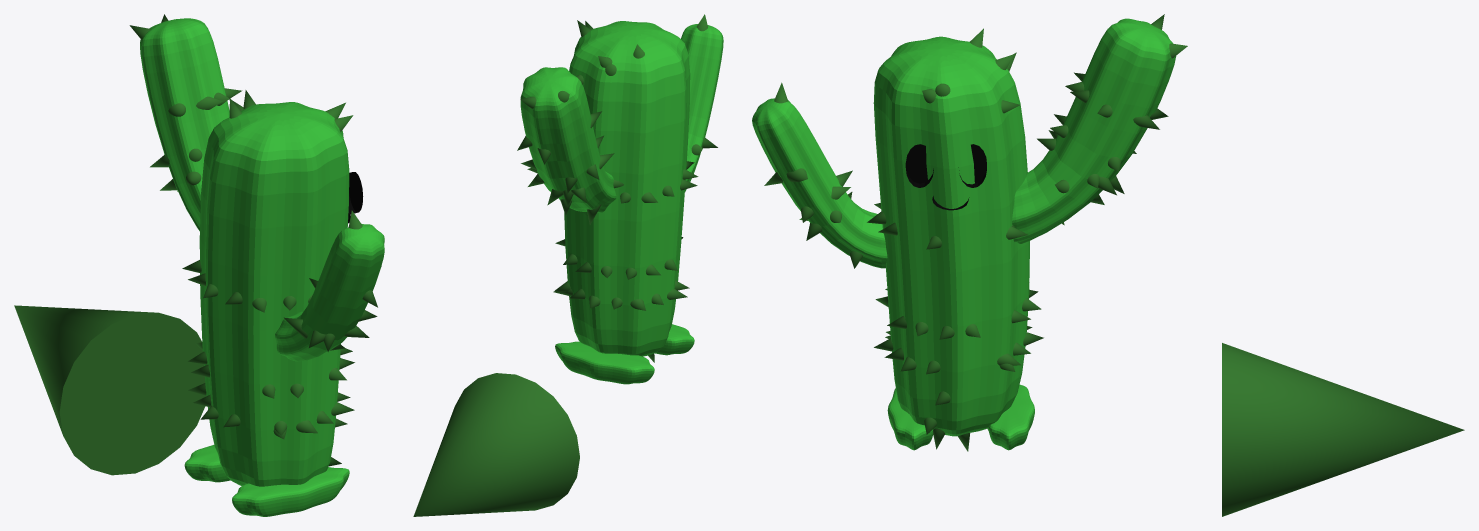
File: 선인장 1.fbx
3 views of the same model, side by side, from view 1: azimuth 30°, elevation 25°; view 2: azimuth 150°, elevation 25°; view 3: azimuth 270°, elevation 25° (orthographic). The views are drawn at different scales.
Parts seen in each view (by area): view 1: Circle.004, Cone, Circle.009, Circle.008, Circle.006; view 2: Circle.004, Cone, Circle.008, Circle.009; view 3: Circle.004, Cone, Circle.008, Circle.009, Circle.006.
Boxes of the visible parts, x1=… form: Circle.004: x1=140, y1=18, x2=384, y2=486; Cone: x1=14, y1=305, x2=206, y2=475; Circle.009: x1=232, y1=467, x2=349, y2=516; Circle.008: x1=184, y1=445, x2=230, y2=482; Circle.006: x1=348, y1=172, x2=363, y2=214; Circle.004: x1=520, y1=21, x2=723, y2=356; Cone: x1=413, y1=373, x2=579, y2=516; Circle.008: x1=555, y1=341, x2=654, y2=384; Circle.009: x1=655, y1=324, x2=694, y2=355; Circle.004: x1=752, y1=18, x2=1176, y2=436; Cone: x1=1222, y1=343, x2=1464, y2=516; Circle.008: x1=987, y1=384, x2=1034, y2=450; Circle.009: x1=887, y1=388, x2=933, y2=450; Circle.006: x1=905, y1=144, x2=933, y2=187.
Size of the model in its own units: 201 by 610 by 813.
